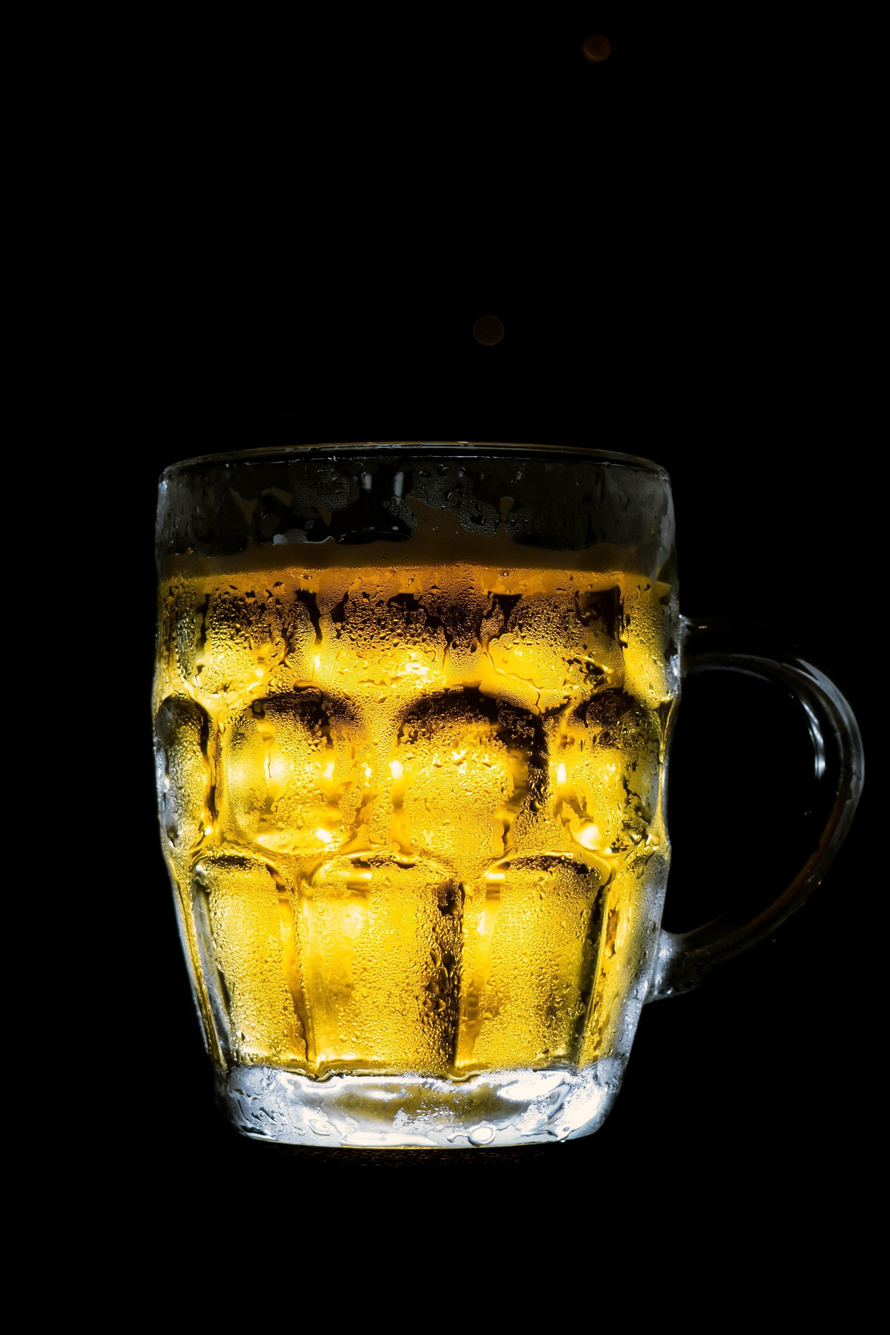glass-mug: (141, 409, 890, 1163)
